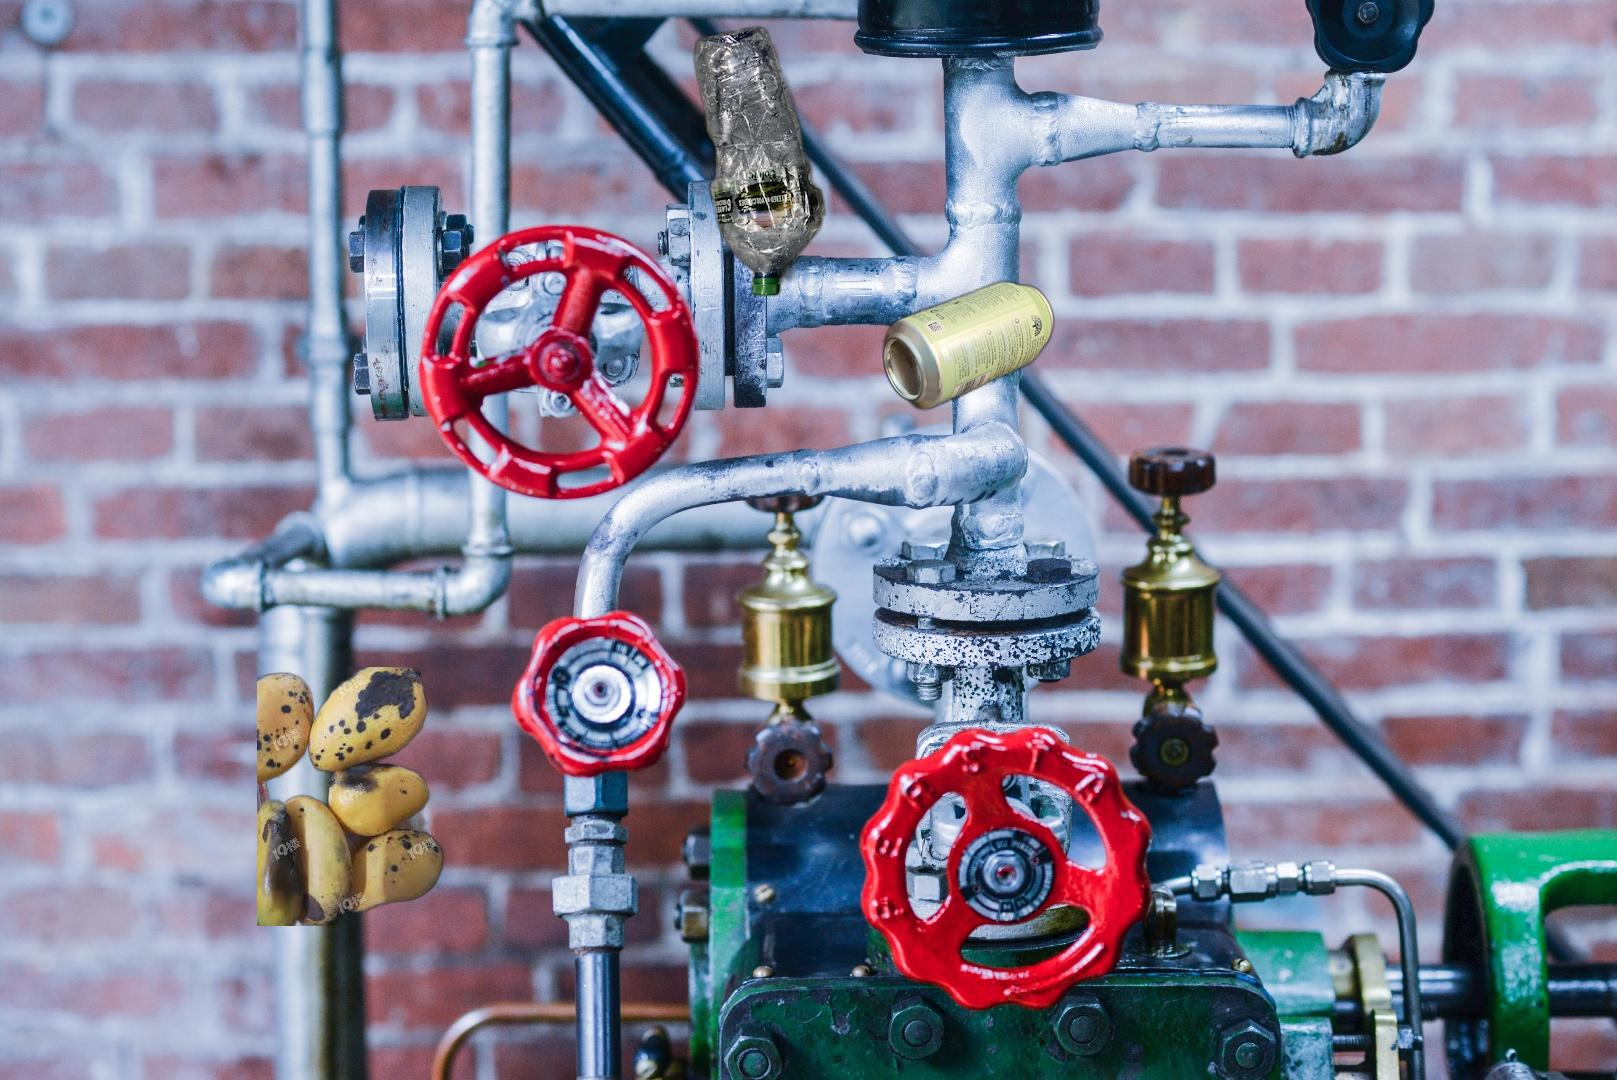biological: (257, 667, 447, 926)
metal-cans: (878, 276, 1058, 415)
plastic-bottles: (690, 23, 830, 300)
